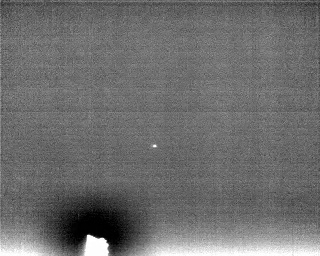BIRD: (149, 141, 160, 153)
